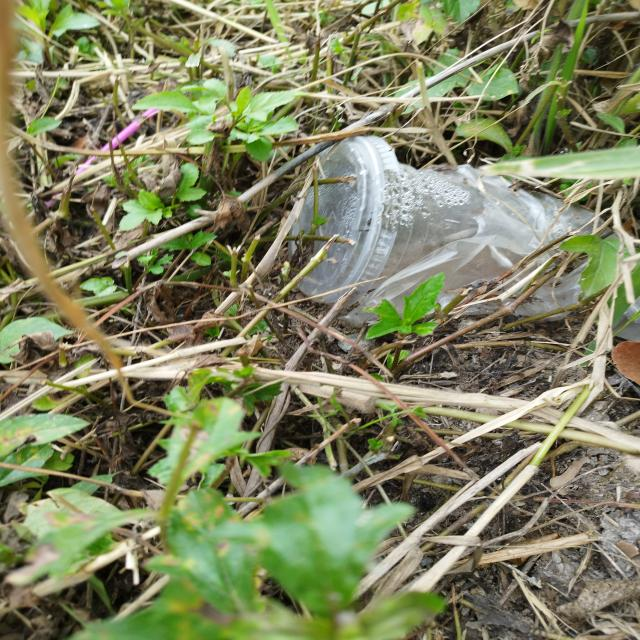plastic glass: (292, 136, 606, 322)
